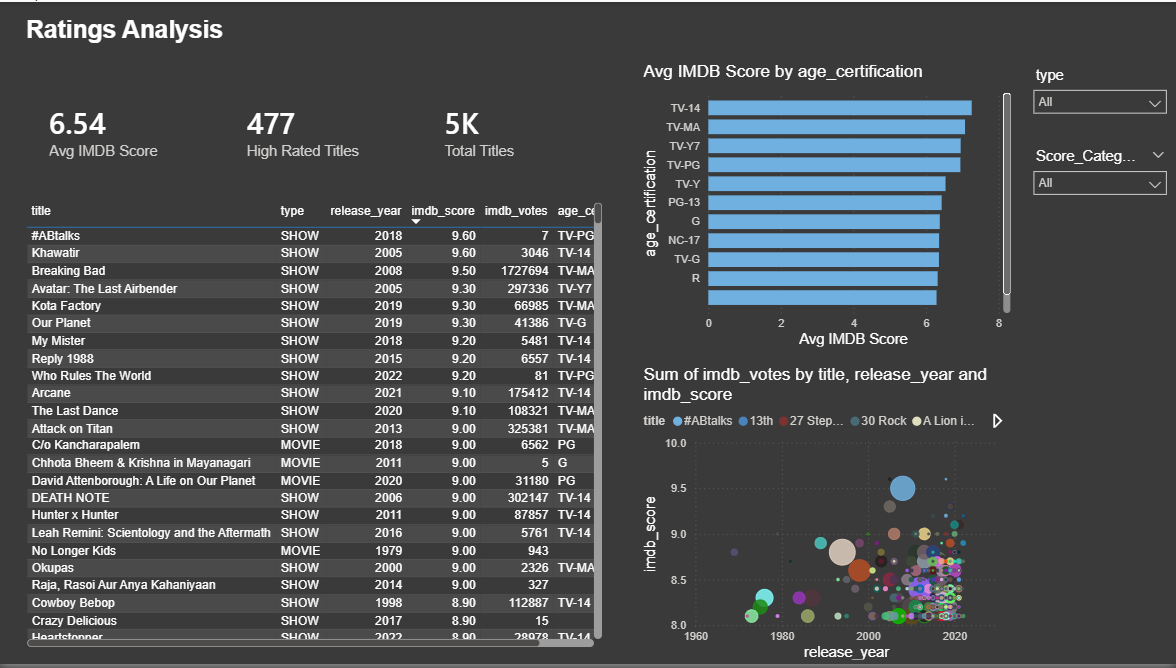

Layout of this report page (visuals, bound fields, positions):
{"tool":"powerbi","page":{"name":"Ratings Analysis","canvas":[1280,720],"ordinal":1},"visuals":[{"type":"tableEx","fields":{"Values":["netflix_clean.title","netflix_clean.type","netflix_clean.release_year","netflix_clean.imdb_score","netflix_clean.imdb_votes","netflix_clean.age_certification"]},"box":[24.5,213.4,636.1,493.4],"z":0},{"type":"scatterChart","fields":{"X":["netflix_clean.release_year"],"Y":["netflix_clean.imdb_score"],"Size":["Sum(netflix_clean.imdb_votes)"],"Series":["netflix_clean.title"]},"box":[695.7,393.7,409.3,326],"z":1000},{"type":"cardVisual","fields":{"Data":["netflix_clean.Avg IMDB Score","netflix_clean.High Rated Titles","netflix_clean.Total Titles"]},"box":[24,64.9,671.8,148.2],"z":2000},{"type":"textbox","box":[24,11.3,239.9,40.9],"z":3000},{"type":"clusteredBarChart","fields":{"Category":["netflix_clean.age_certification"],"Y":["netflix_clean.Avg IMDB Score"]},"box":[695.7,64.9,409.3,314.7],"z":4000},{"type":"slicer","fields":{"Values":["netflix_clean.type"]},"box":[1114.9,64.9,165.1,74.8],"z":5000},{"type":"slicer","fields":{"Values":["netflix_clean.Score_Category"]},"box":[1114.9,153.8,165.1,69.2],"z":6000}]}

Visuals, with their boxes in screenshot pixels (x1, y1, x2, y2), scaled from the page's 1280x720 canvas onto the 1176x668 screenshot:
tableEx - netflix_clean.title x netflix_clean.type: l=23, t=198, r=607, b=656
scatterChart - netflix_clean.release_year x netflix_clean.imdb_score: l=639, t=365, r=1015, b=667
cardVisual - netflix_clean.Avg IMDB Score x netflix_clean.High Rated Titles: l=22, t=60, r=639, b=198
textbox: l=22, t=10, r=242, b=48
clusteredBarChart - netflix_clean.age_certification x netflix_clean.Avg IMDB Score: l=639, t=60, r=1015, b=352
slicer - netflix_clean.type: l=1024, t=60, r=1175, b=130
slicer - netflix_clean.Score_Category: l=1024, t=143, r=1175, b=207
